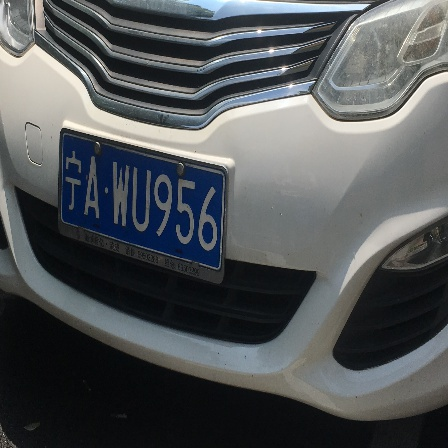plate: (58, 123, 232, 279)
